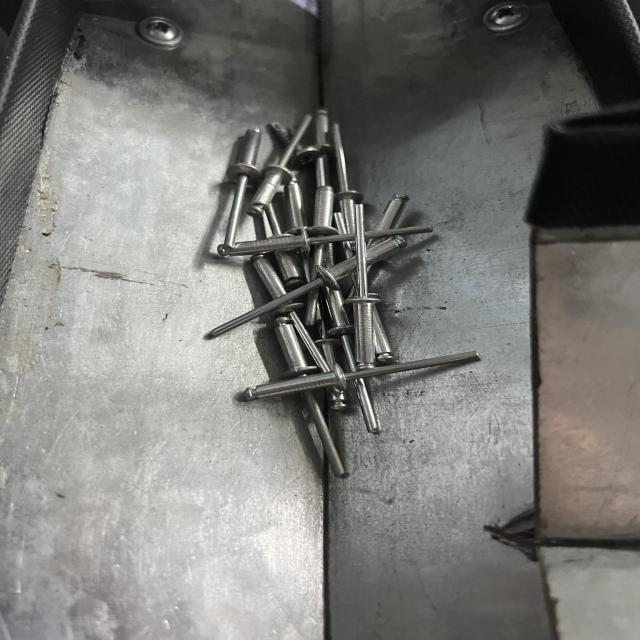rivet: (203, 236, 410, 342), (239, 352, 483, 400), (218, 122, 261, 260)
